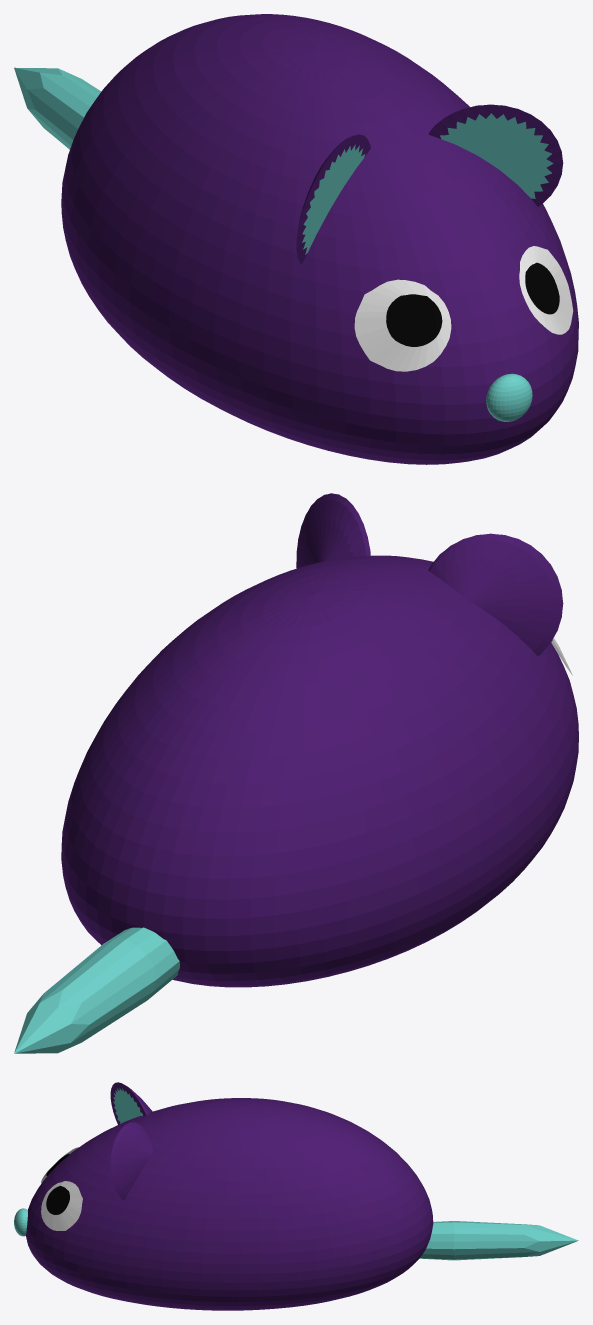
File: MagicMouse.fbx
3 views of the same model, one above another, from view 1: azimuth 30°, elevation 25°; view 2: azimuth 150°, elevation 25°; view 3: azimuth 270°, elevation 25° (orthographic). The views are drawn at different scales.
Parts seen in each view (by area): view 1: Sphere, Cone, Circle, Cylinder, Sphere.001; view 2: Sphere, Cone, Cylinder; view 3: Sphere, Cylinder, Cone, Circle, Sphere.001.
Boxes of the visible parts, x1,y1,x2,y2 form: Sphere: (61,14,578,464); Cone: (296,104,563,264); Circle: (354,246,573,371); Cylinder: (14,67,101,149); Sphere.001: (486,373,532,421); Sphere: (61,555,578,987); Cone: (296,493,563,655); Cylinder: (14,927,179,1053); Sphere: (26,1098,433,1310); Cylinder: (419,1221,578,1260); Cone: (110,1082,152,1200); Circle: (41,1147,82,1230); Sphere.001: (14,1208,27,1236).
Bounding box in the file's own units: 162 × 133 × 381.
